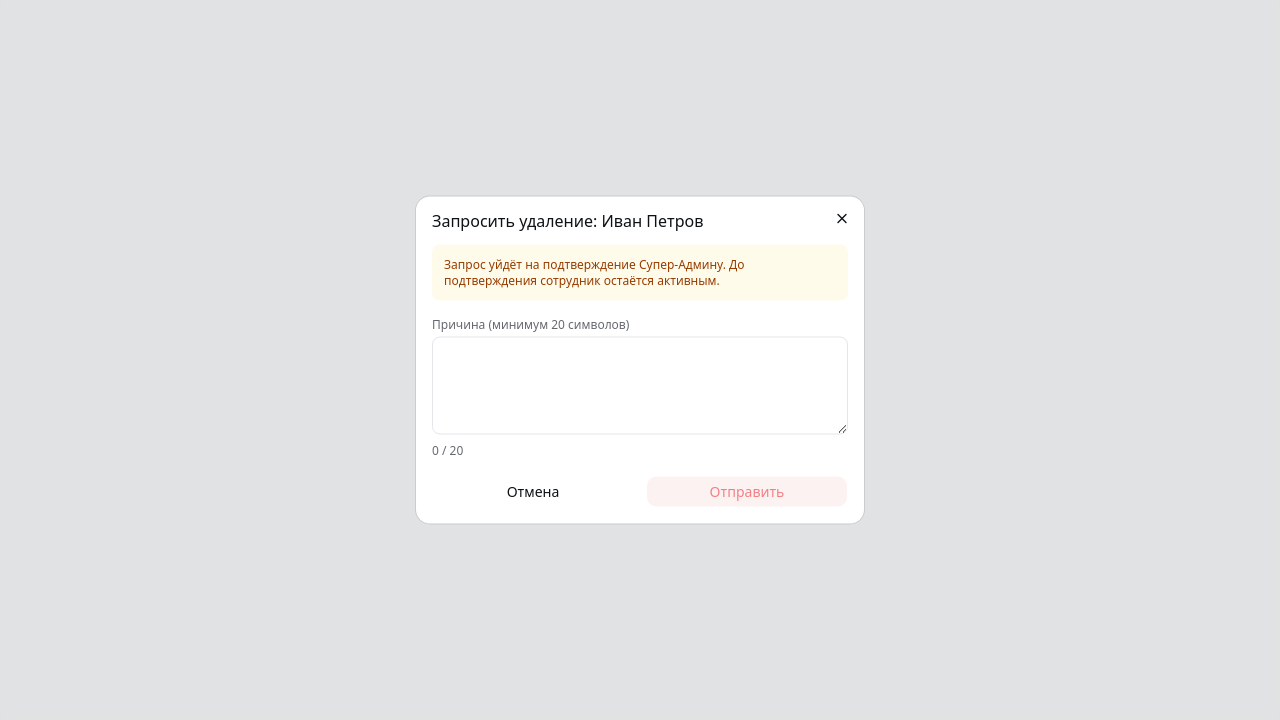
Test: <DeleteRequestModal> › disables submit until reason is 20+ chars
Expected: the button "Отправить" is disabled, top-left (646, 476), bottom-right (848, 508)
Type "short" into the text box labelled "Причина (минимум 20 символов) 0 / 20" at (640,386), box top-left (432, 336), bottom-right (848, 434)
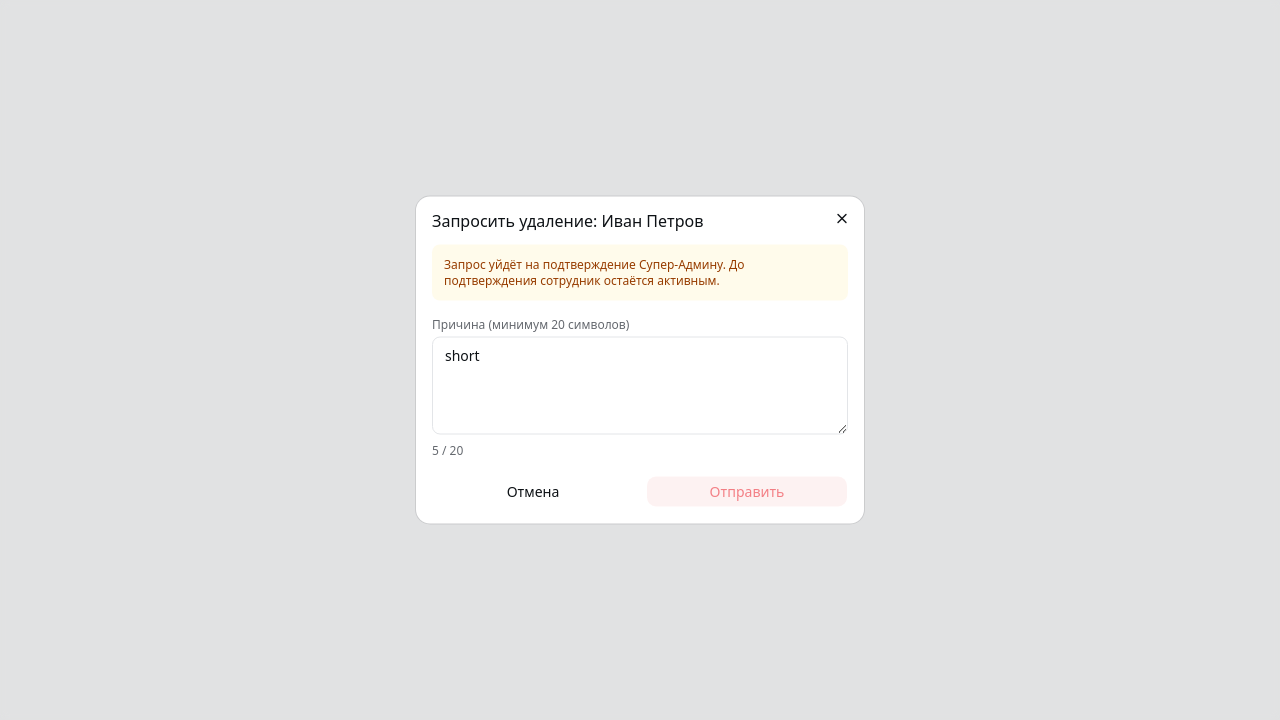
Expected: the button "Отправить" is disabled, top-left (646, 476), bottom-right (848, 508)
Replace the text in the text box labelled "Причина (минимум 20 символов) 5 / 20" with "Достаточно длинная причина для отправки" at (640,386), box top-left (432, 336), bottom-right (848, 434)
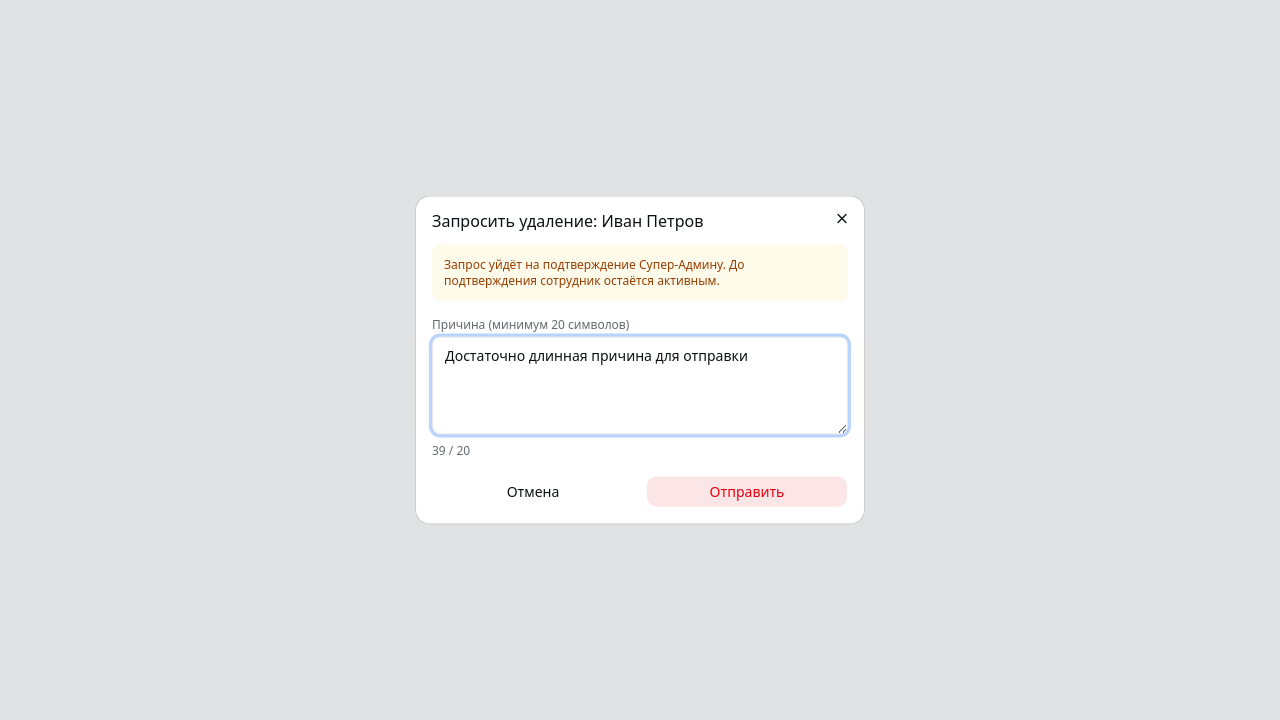
Expected: the button "Отправить" is enabled, top-left (646, 476), bottom-right (848, 508)
